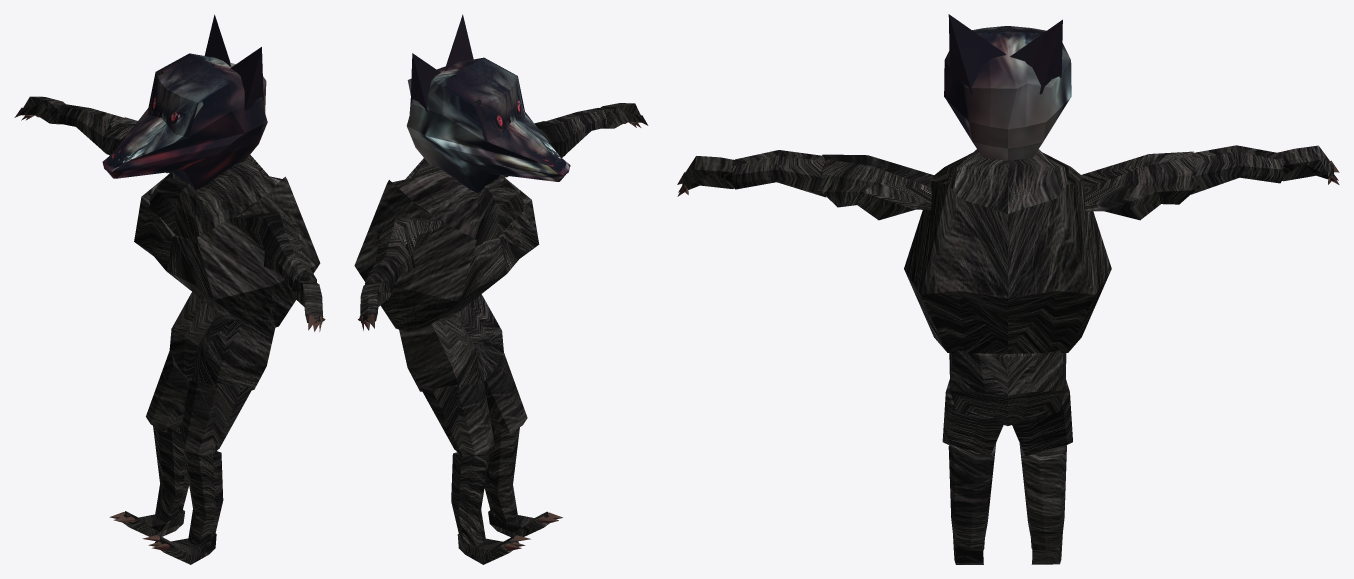
Rendered from werewolf.fbx.
The picture shows the model from 3 angles, left to right: view 1: azimuth 30°, elevation 25°; view 2: azimuth 150°, elevation 25°; view 3: azimuth 270°, elevation 25°; orthographic projection. The views are drawn at different scales.
Visible parts, largest first — view 1: Head, Body Upper, Body Lower, Neck, Leg Upper Left, Leg Lower left, Leg Lower Right, Leg Upper Right, Arm Upper Left, Arm Lower Left, Arm Lower Right, Feet Left (+4 smaller); view 2: Head, Body Upper, Body Lower, Neck, Leg Upper Right, Leg Lower Right, Leg Lower left, Leg Upper Left, Arm Upper Right, Arm Lower Right, Arm Lower Left, Feet Right (+4 smaller); view 3: Body Upper, Head, Body Lower, Neck, Arm Upper Right, Arm Upper Left, Leg Lower left, Leg Lower Right, Arm Lower Left, Arm Lower Right, Leg Upper Right, Leg Upper Left (+2 smaller).
Boxes of the visible parts, x1,y1,x2,y2 form: Head: (102,14,267,189); Body Upper: (134,154,320,330); Body Lower: (169,292,275,390); Neck: (149,155,280,243); Leg Upper Left: (179,381,253,455); Leg Lower left: (183,448,223,546); Leg Lower Right: (153,426,189,525); Leg Upper Right: (146,351,189,432); Arm Upper Left: (227,212,299,269); Arm Lower Left: (265,233,316,288); Arm Lower Right: (57,104,123,154); Feet Left: (142,533,216,564); Head: (406,14,570,193); Body Upper: (354,158,539,332); Body Lower: (399,294,504,391); Neck: (394,159,524,246); Leg Upper Right: (420,382,494,456); Leg Lower Right: (451,448,490,546); Leg Lower left: (484,427,519,526); Leg Upper Left: (484,353,527,433); Arm Upper Right: (376,217,445,272); Arm Lower Right: (365,236,413,289); Arm Lower Left: (546,108,607,157); Feet Right: (457,534,530,564); Body Upper: (904,179,1111,353); Head: (944,14,1071,160); Body Lower: (949,350,1066,425); Neck: (932,149,1082,213); Arm Upper Right: (1081,151,1197,220); Arm Upper Left: (819,154,934,220); Leg Lower left: (948,443,995,554); Leg Lower Right: (1019,443,1066,554); Arm Lower Left: (731,150,826,197); Arm Lower Right: (1191,145,1284,194); Leg Upper Right: (1012,379,1072,456); Leg Upper Left: (942,379,1003,456).
Size of the model in its own units: 253 by 673 by 690.
Materials: 1 (1 with a texture image).
